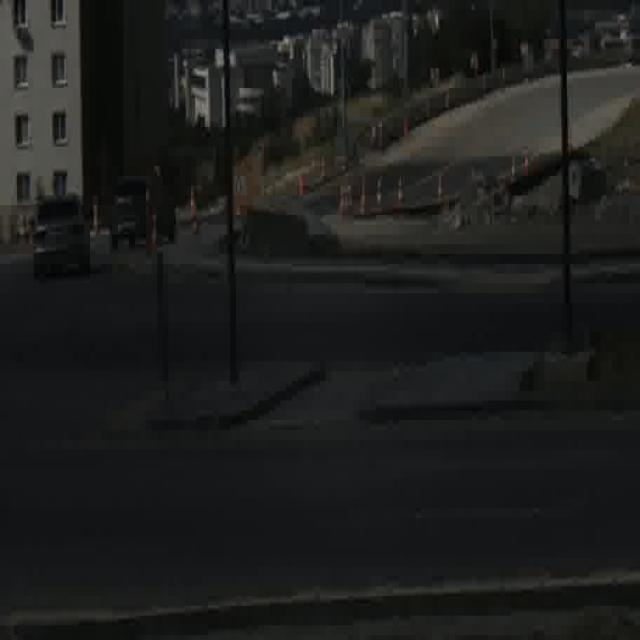Car: (32, 188, 89, 282), (112, 171, 174, 249)
